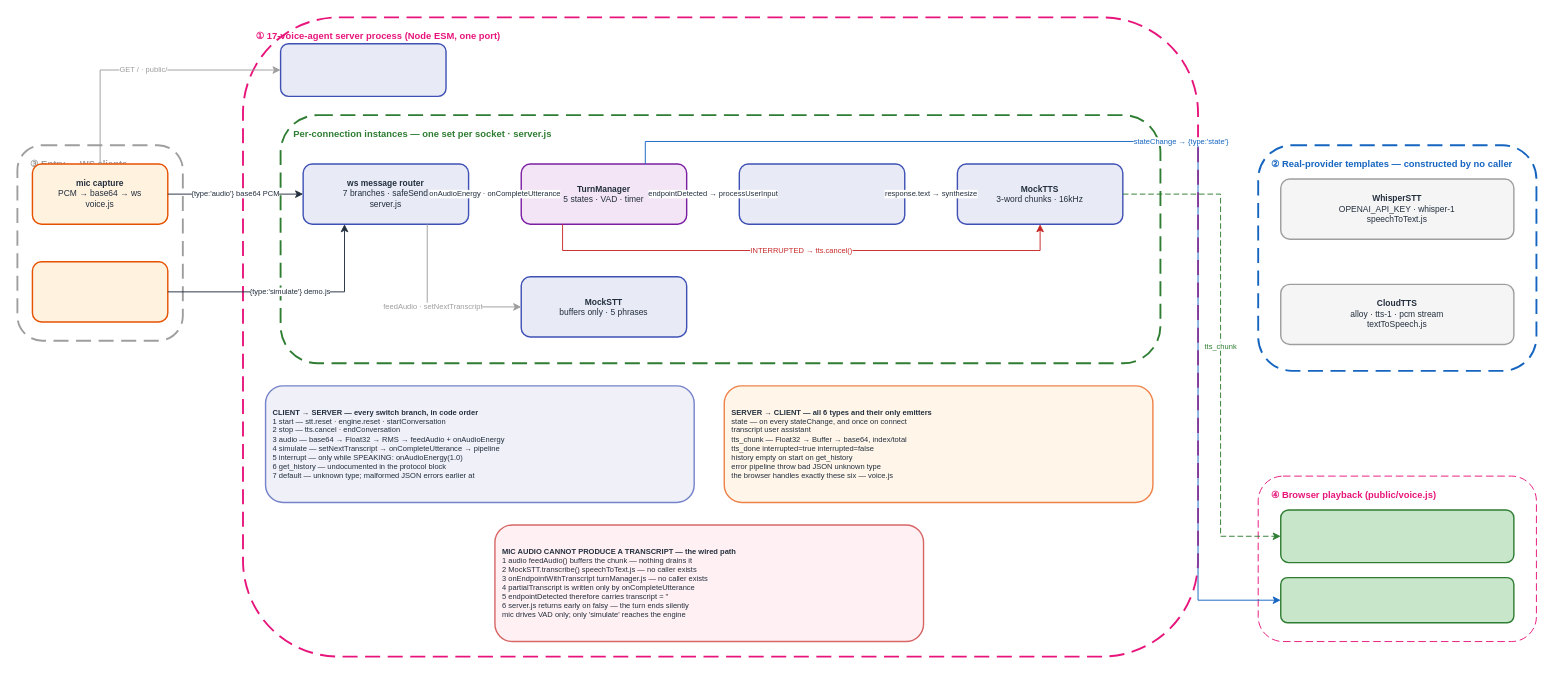
This 1553x673 diagram has some shape labels left out. Each missing label, with the centre of its shape:
"ConversationEngine 8 rules · 20-turn ctx" goes at pixel 821 193.
"demo.js 4 scripted turns" goes at pixel 99 291.
"express.static public/ → browser server.js" goes at pixel 362 70.
"playback queue sequential · onended voice.js" goes at pixel 1397 536.
"transcript + waveform voice.js" goes at pixel 1397 600.
